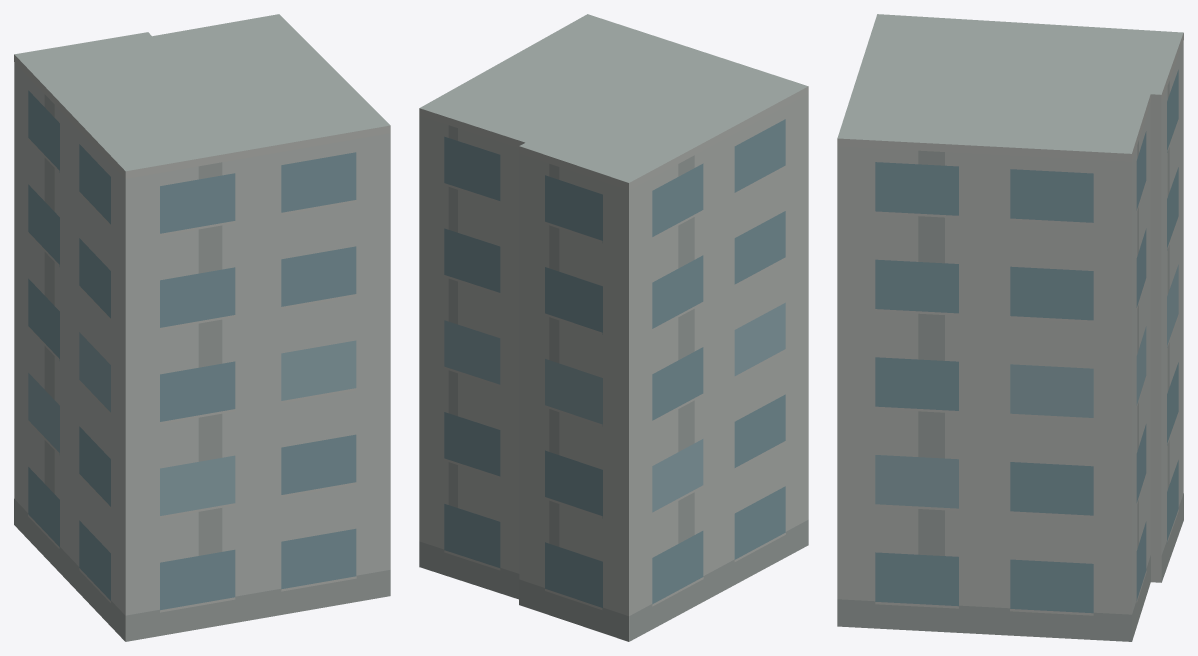
The model's file is survey-upis-32727111.glb.
3 renders of one model, left to right at view 1: azimuth 30°, elevation 25°; view 2: azimuth 150°, elevation 25°; view 3: azimuth 270°, elevation 25°, orthographic. The views are drawn at different scales.
Visible parts, largest first — view 1: survey-upis-32727111.tmp; view 2: survey-upis-32727111.tmp; view 3: survey-upis-32727111.tmp.
Part boxes in pixels (bbox=[...]): survey-upis-32727111.tmp: bbox=[14, 14, 390, 641]; survey-upis-32727111.tmp: bbox=[419, 14, 808, 641]; survey-upis-32727111.tmp: bbox=[837, 14, 1183, 641].
Size of the model in its own units: 9.17 by 14.9 by 9.59.
